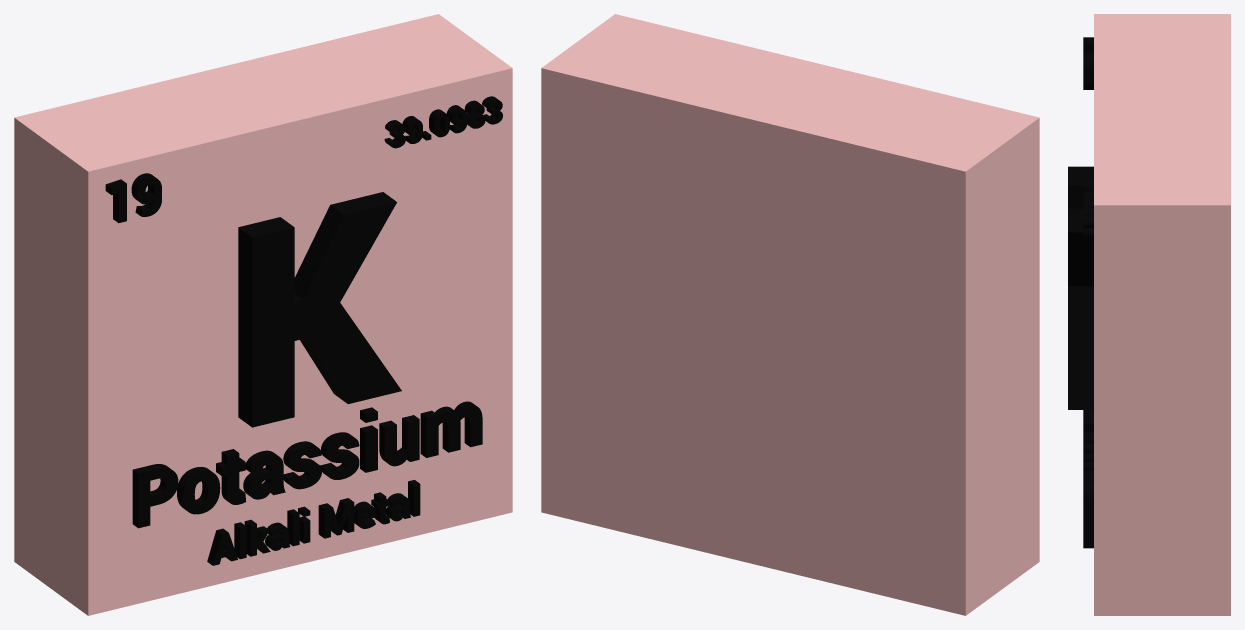
3 views of the same model, side by side, from view 1: azimuth 30°, elevation 25°; view 2: azimuth 150°, elevation 25°; view 3: azimuth 270°, elevation 25° (orthographic). The views are drawn at different scales.
Parts seen in each view (by area): view 1: Cube, Text, Text.001, Text.002, Text.004, Text.003; view 2: Cube; view 3: Cube, Text, Text.001, Text.004, Text.003, Text.002.
Part boxes in pixels (left/top/right/bottom): Cube: left=14, top=14, right=512, bottom=615; Text: left=238, top=192, right=401, bottom=427; Text.001: left=132, top=401, right=482, bottom=528; Text.002: left=207, top=480, right=420, bottom=565; Text.004: left=384, top=96, right=502, bottom=148; Text.003: left=105, top=173, right=161, bottom=223; Cube: left=541, top=14, right=1039, bottom=615; Cube: left=1094, top=14, right=1230, bottom=615; Text: left=1068, top=166, right=1093, bottom=409; Text.001: left=1083, top=410, right=1093, bottom=524; Text.004: left=1083, top=171, right=1093, bottom=238; Text.003: left=1083, top=37, right=1093, bottom=89; Text.002: left=1083, top=525, right=1093, bottom=548.
Bounding box in the file's own units: 178 × 178 × 63.95.
